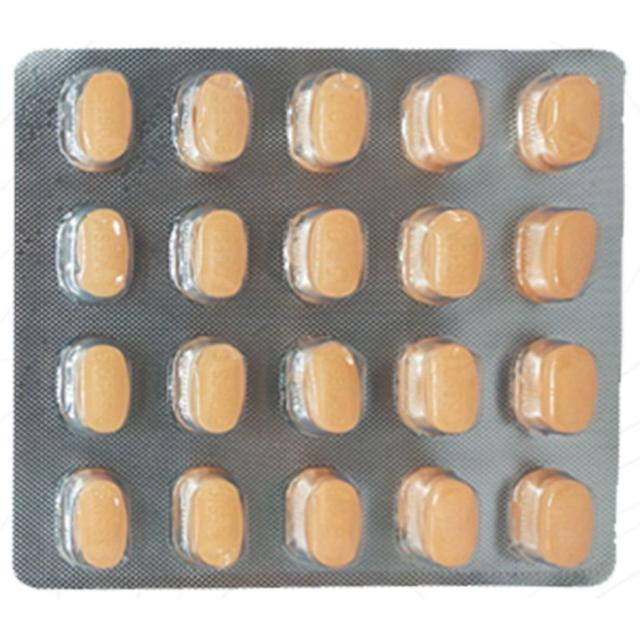blister: (8, 44, 626, 596)
